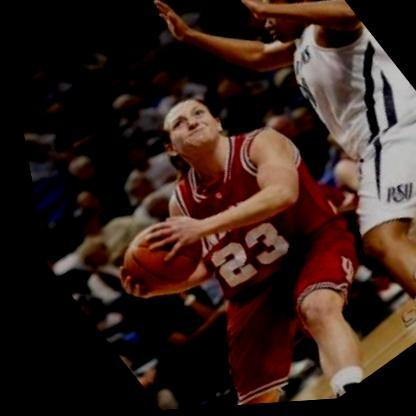basketball: (87, 199, 223, 315)
